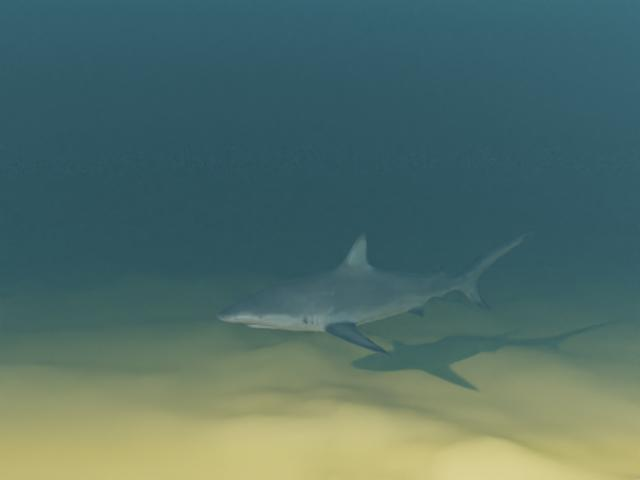Carribean Shark.001: (216, 231, 536, 355)
